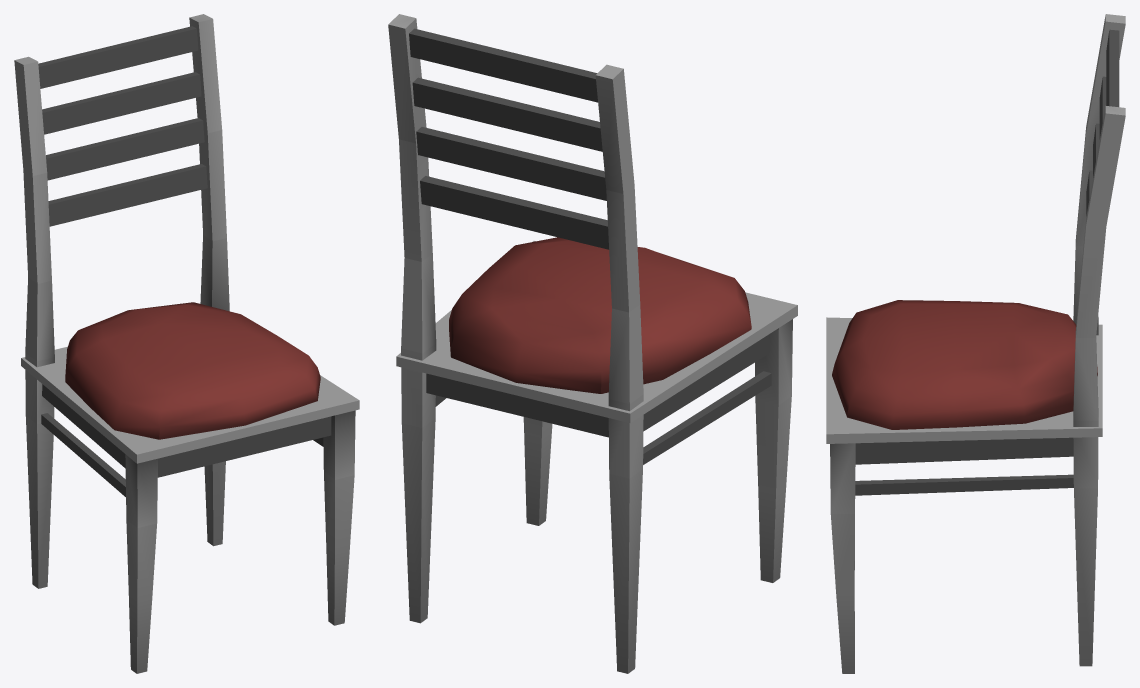
Rendered from pq_chaise_coussin.glb.
3 views of the same model, side by side, from view 1: azimuth 30°, elevation 25°; view 2: azimuth 150°, elevation 25°; view 3: azimuth 270°, elevation 25° (orthographic). The views are drawn at different scales.
Parts seen in each view (by area): view 1: Chair_2; view 2: Chair_2; view 3: Chair_2.
Part boxes in pixels (x1,y1,x2,y2): Chair_2: (14, 14, 359, 673); Chair_2: (388, 14, 797, 673); Chair_2: (826, 14, 1125, 673).
Bounding box in the file's own units: 0.4509 × 1 × 0.4886.
